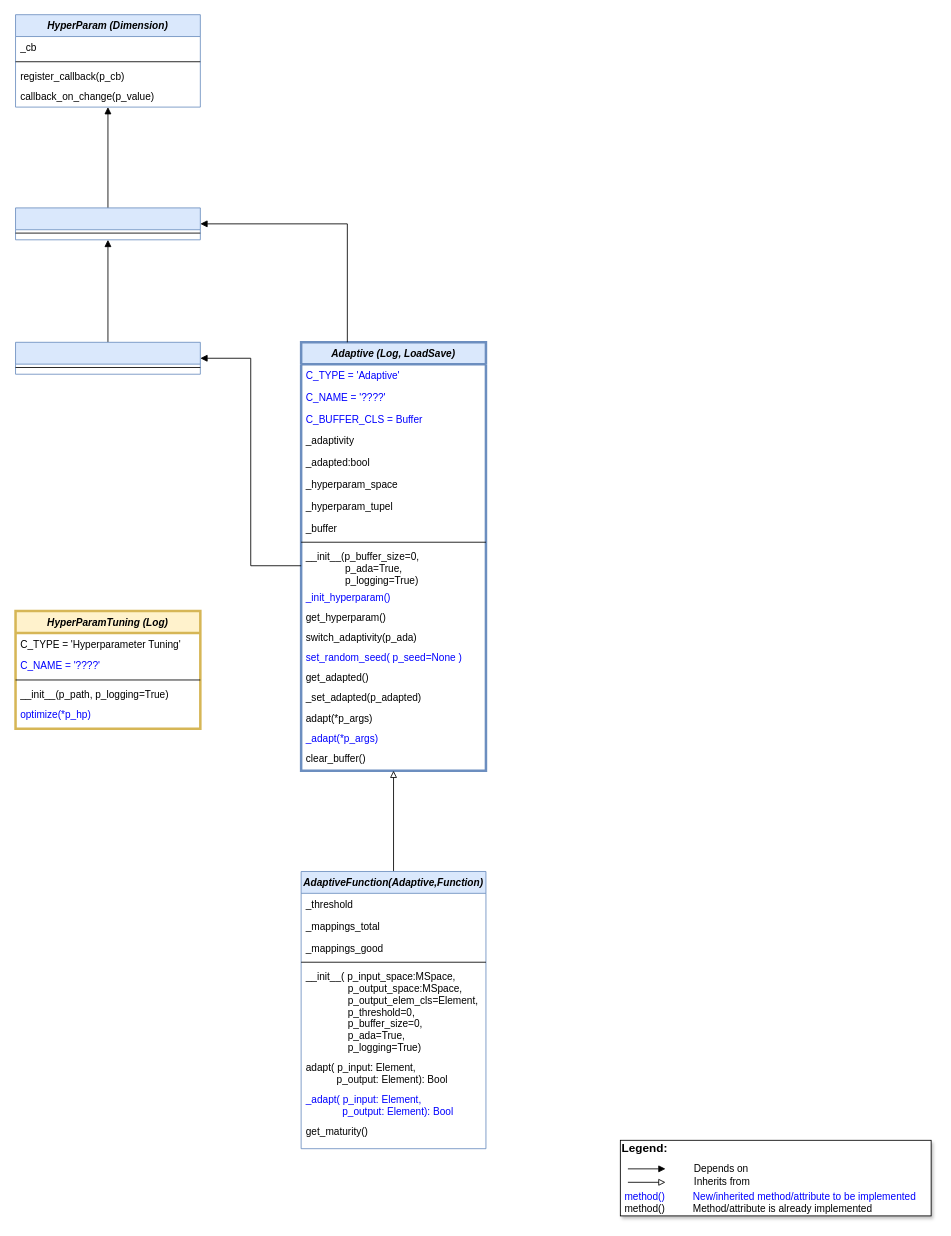
Image size: 951x1236. Some labels were removed from this diagram. Each missing label, with the centre of its shape:
HyperParamSpace (ESpace): the point at 107,223
HyperParamTupel (Element): the point at 107,357
